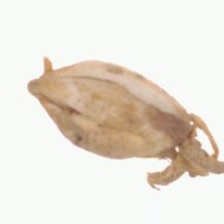L1: (162, 133, 220, 181), (25, 58, 54, 116)
L2: (27, 57, 220, 181)
